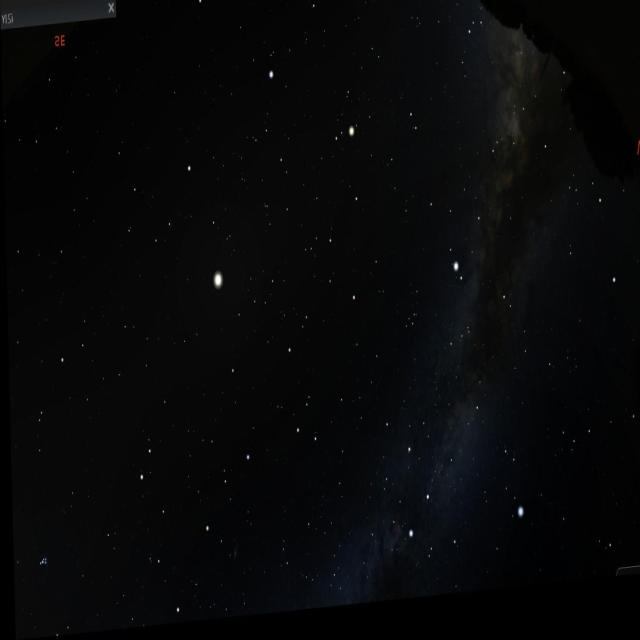aquila: (428, 138, 514, 300)
cygnus: (395, 400, 485, 558)
lyra: (490, 442, 525, 540)
pleiades: (27, 544, 54, 582)
